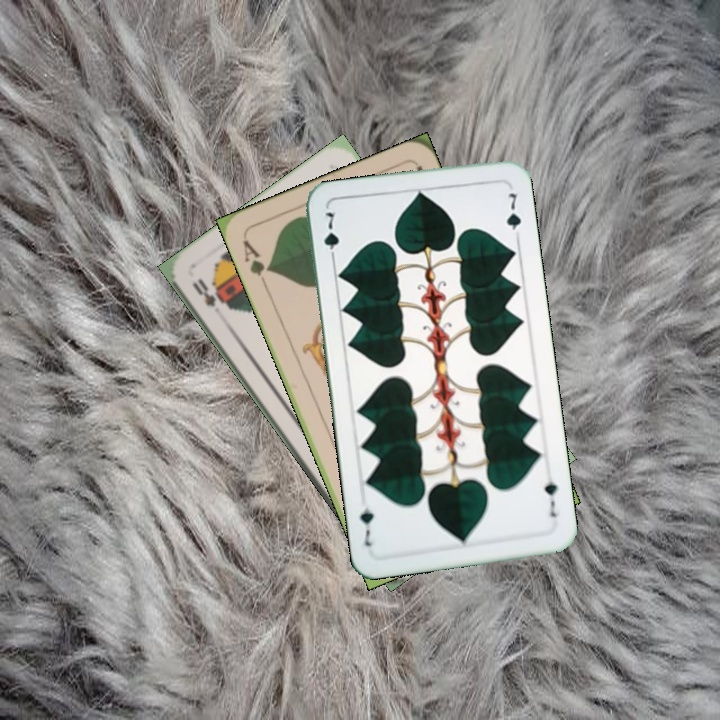G7: (320, 207, 342, 265), (540, 469, 560, 520)
GA: (239, 236, 275, 290)
SO: (188, 273, 225, 310)
